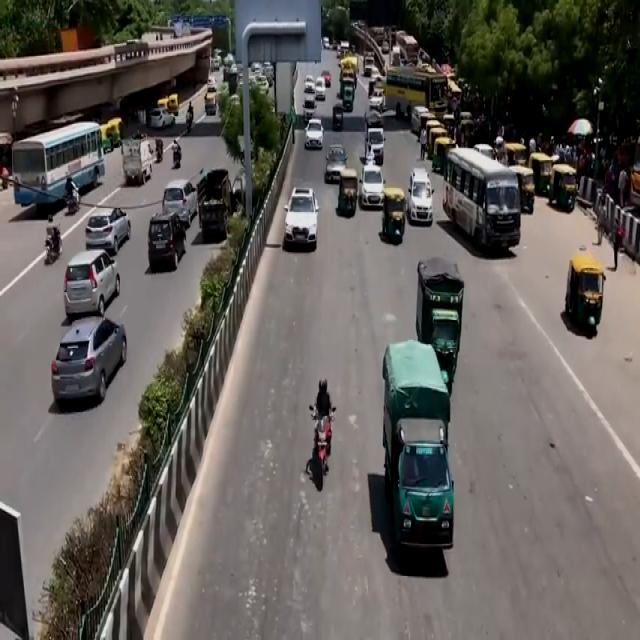BUS: (13, 120, 108, 215), (445, 147, 524, 256), (386, 64, 449, 117)
MOTORCYCLE: (316, 413, 336, 492)
